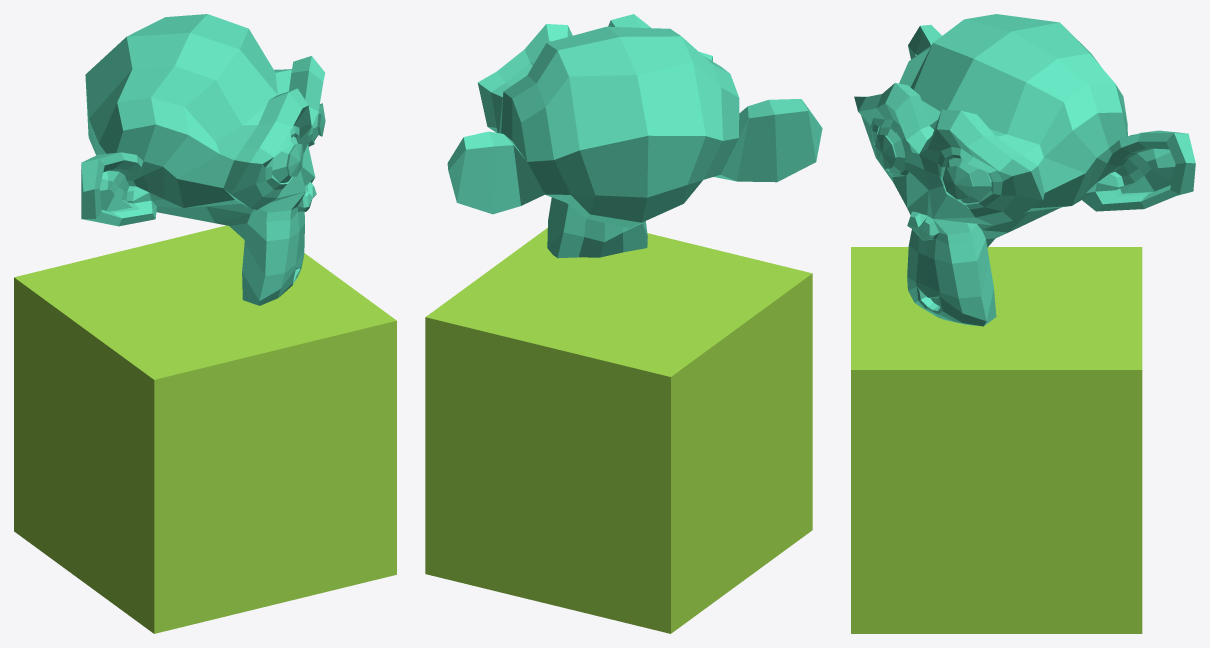
The model's file is MonkeyHeadOnBox.fbx.
3 renders of one model, left to right at view 1: azimuth 30°, elevation 25°; view 2: azimuth 150°, elevation 25°; view 3: azimuth 270°, elevation 25°, orthographic. The views are drawn at different scales.
Parts seen in each view (by area): view 1: Cube, Suzanne; view 2: Cube, Suzanne; view 3: Cube, Suzanne.
Boxes of the visible parts, x1,y1,x2,y2 form: Cube: (14, 225, 396, 633); Suzanne: (81, 14, 325, 305); Cube: (425, 227, 812, 633); Suzanne: (447, 14, 822, 258); Cube: (851, 247, 1142, 633); Suzanne: (854, 14, 1195, 326).
Size of the model in its own units: 235 by 407 by 237.
